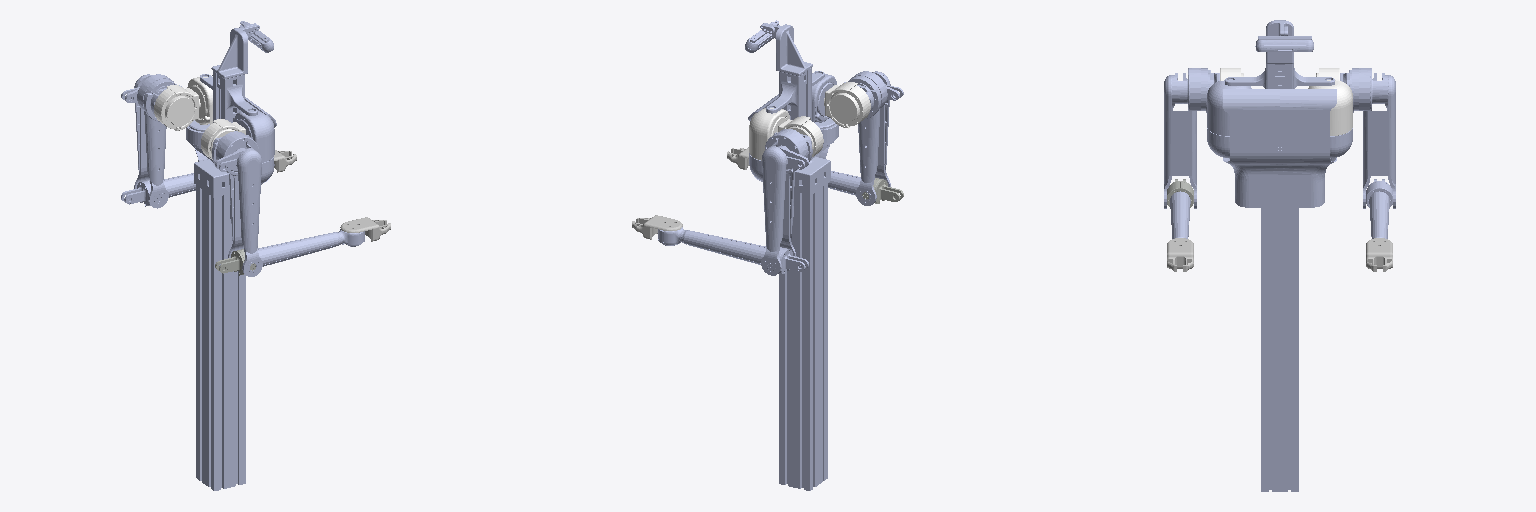
The robot description file, URDF, robot "RobotBimanualV3":
<?xml version="1.0" encoding="utf-8"?>
<!-- This URDF was automatically created by SolidWorks to URDF Exporter! Originally created by [author] ([email redacted]) 
     Commit Version: 1.6.0-4-g7f85cfe  Build Version: 1.6.7995.38578
     For more information, please see http://wiki.ros.org/sw_urdf_exporter -->
<robot
  name="RobotBimanualV3">
  <link
    name="base_link">
    <inertial>
      <origin
        xyz="0.010321 0.00065104 0.5185"
        rpy="0 0 0" />
      <mass
        value="35.545" />
      <inertia
        ixx="1.3259"
        ixy="-1.6443E-06"
        ixz="-0.00012106"
        iyy="1.3119"
        iyz="-1.547E-06"
        izz="0.026428" />
    </inertial>
    <visual>
      <origin
        xyz="0 0 0"
        rpy="0 0 0" />
      <geometry>
        <mesh
          filename="package://RobotBimanualV3/meshes/base_link.STL" />
      </geometry>
      <material
        name="">
        <color
          rgba="0.79216 0.81961 0.93333 1" />
      </material>
    </visual>
    <collision>
      <origin
        xyz="0 0 0"
        rpy="0 0 0" />
      <geometry>
        <mesh
          filename="package://RobotBimanualV3/meshes/base_link.STL" />
      </geometry>
    </collision>
  </link>
  <link
    name="link1">
    <inertial>
      <origin
        xyz="0.00277367 6.161E-05 0.05165334"
        rpy="0 0 0" />
      <mass
        value="0.706" />
      <inertia
        ixx="0.00074611"
        ixy="5.4E-07"
        ixz="5.3E-07"
        iyy="0.00054009"
        iyz="3.26E-06"
        izz="0.00050643" />
    </inertial>
    <visual>
      <origin
        xyz="0 0 0"
        rpy="0 0 0" />
      <geometry>
        <mesh
          filename="package://RobotBimanualV3/meshes/link1.STL" />
      </geometry>
      <material
        name="">
        <color
          rgba="1 1 1 1" />
      </material>
    </visual>
    <collision>
      <origin
        xyz="0 0 0"
        rpy="0 0 0" />
      <geometry>
        <mesh
          filename="package://RobotBimanualV3/meshes/link1.STL" />
      </geometry>
    </collision>
  </link>
  <joint
    name="joint1"
    type="revolute">
    <origin
      xyz="0.02 0.1037 0.8358"
      rpy="0 0 0" />
    <parent
      link="base_link" />
    <child
      link="link1" />
    <axis
      xyz="0 0 1" />
    <limit
      lower="0"
      upper="0"
      effort="0"
      velocity="0" />
  </joint>
  <link
    name="link2">
    <inertial>
      <origin
        xyz="-0.00124394 -5.732E-05 0.0545228"
        rpy="0 0 0" />
      <mass
        value="0.659" />
      <inertia
        ixx="0.00064807"
        ixy="8.3E-07"
        ixz="-4.6E-07"
        iyy="0.00045162"
        iyz="-1.01E-06"
        izz="0.00043422" />
    </inertial>
    <visual>
      <origin
        xyz="0 0 0"
        rpy="0 0 0" />
      <geometry>
        <mesh
          filename="package://RobotBimanualV3/meshes/link2.STL" />
      </geometry>
      <material
        name="">
        <color
          rgba="1 1 1 1" />
      </material>
    </visual>
    <collision>
      <origin
        xyz="0 0 0"
        rpy="0 0 0" />
      <geometry>
        <mesh
          filename="package://RobotBimanualV3/meshes/link2.STL" />
      </geometry>
    </collision>
  </link>
  <joint
    name="joint2"
    type="revolute">
    <origin
      xyz="-0.020519 0.0080718 0.0528"
      rpy="-1.5708 0 1.5708" />
    <parent
      link="link1" />
    <child
      link="link2" />
    <axis
      xyz="0 0 1" />
    <limit
      lower="0"
      upper="0"
      effort="0"
      velocity="0" />
  </joint>
  <link
    name="link3">
    <inertial>
      <origin
        xyz="-0.03505493 -0.006151 0.05438578"
        rpy="0 0 0" />
      <mass
        value="1.095" />
      <inertia
        ixx="0.00161847"
        ixy="0.00042205"
        ixz="-0.00104433"
        iyy="0.0066165"
        iyz="-0.0001917"
        izz="0.00653551" />
    </inertial>
    <visual>
      <origin
        xyz="0 0 0"
        rpy="0 0 0" />
      <geometry>
        <mesh
          filename="package://RobotBimanualV3/meshes/link3.STL" />
      </geometry>
      <material
        name="">
        <color
          rgba="0.79216 0.81961 0.93333 1" />
      </material>
    </visual>
    <collision>
      <origin
        xyz="0 0 0"
        rpy="0 0 0" />
      <geometry>
        <mesh
          filename="package://RobotBimanualV3/meshes/link3.STL" />
      </geometry>
    </collision>
  </link>
  <joint
    name="joint3"
    type="revolute">
    <origin
      xyz="0.014928 0 0.058031"
      rpy="-1.5708 0 -1.5708" />
    <parent
      link="link2" />
    <child
      link="link3" />
    <axis
      xyz="0 0 1" />
    <limit
      lower="0"
      upper="0"
      effort="0"
      velocity="0" />
  </joint>
  <link
    name="link4">
    <inertial>
      <origin
        xyz="-0.00914828 -0.00042727 -7.12E-06"
        rpy="0 0 0" />
      <mass
        value="0.268" />
      <inertia
        ixx="9.136E-05"
        ixy="7E-08"
        ixz="-2E-08"
        iyy="0.00013894"
        iyz="0"
        izz="0.00013031" />
    </inertial>
    <visual>
      <origin
        xyz="0 0 0"
        rpy="0 0 0" />
      <geometry>
        <mesh
          filename="package://RobotBimanualV3/meshes/link4.STL" />
      </geometry>
      <material
        name="">
        <color
          rgba="0.79216 0.81961 0.93333 1" />
      </material>
    </visual>
    <collision>
      <origin
        xyz="0 0 0"
        rpy="0 0 0" />
      <geometry>
        <mesh
          filename="package://RobotBimanualV3/meshes/link4.STL" />
      </geometry>
    </collision>
  </link>
  <joint
    name="joint4"
    type="revolute">
    <origin
      xyz="-0.25 0 0.08318"
      rpy="0 0 1.5708" />
    <parent
      link="link3" />
    <child
      link="link4" />
    <axis
      xyz="0 0 1" />
    <limit
      lower="0"
      upper="0"
      effort="0"
      velocity="0" />
  </joint>
  <link
    name="link5">
    <inertial>
      <origin
        xyz="-0.00077608 -1.282E-05 0.20828624"
        rpy="0 0 0" />
      <mass
        value="0.312" />
      <inertia
        ixx="0.00224953"
        ixy="-6E-08"
        ixz="-1.814E-05"
        iyy="0.00223143"
        iyz="-5.8E-07"
        izz="7.461E-05" />
    </inertial>
    <visual>
      <origin
        xyz="0 0 0"
        rpy="0 0 0" />
      <geometry>
        <mesh
          filename="package://RobotBimanualV3/meshes/link5.STL" />
      </geometry>
      <material
        name="">
        <color
          rgba="0.79216 0.81961 0.93333 1" />
      </material>
    </visual>
    <collision>
      <origin
        xyz="0 0 0"
        rpy="0 0 0" />
      <geometry>
        <mesh
          filename="package://RobotBimanualV3/meshes/link5.STL" />
      </geometry>
    </collision>
  </link>
  <joint
    name="joint5"
    type="revolute">
    <origin
      xyz="0.014 0 0"
      rpy="-1.5708 0 -1.5708" />
    <parent
      link="link4" />
    <child
      link="link5" />
    <axis
      xyz="0 0 1" />
    <limit
      lower="0"
      upper="0"
      effort="0"
      velocity="0" />
  </joint>
  <link
    name="link6">
    <inertial>
      <origin
        xyz="0 0.03647863 -0.00513212"
        rpy="0 0 0" />
      <mass
        value="0.069" />
      <inertia
        ixx="5.058E-05"
        ixy="0"
        ixz="0"
        iyy="2.639E-05"
        iyz="-9.98E-06"
        izz="6.138E-05" />
    </inertial>
    <visual>
      <origin
        xyz="0 0 0"
        rpy="0 0 0" />
      <geometry>
        <mesh
          filename="package://RobotBimanualV3/meshes/link12.STL" />
      </geometry>
      <material
        name="">
        <color
          rgba="0.82353 0.82353 0.82353 1" />
      </material>
    </visual>
    <collision>
      <origin
        xyz="0 0 0"
        rpy="0 0 0" />
      <geometry>
        <mesh
          filename="package://RobotBimanualV3/meshes/link12.STL" />
      </geometry>
    </collision>
  </link>
  <joint
    name="joint6"
    type="revolute">
    <origin
      xyz="0.01415 0 0.2633"
      rpy="1.5708 0 1.5708" />
    <parent
      link="link5" />
    <child
      link="link6" />
    <axis
      xyz="0 0 1" />
    <limit
      lower="0"
      upper="0"
      effort="0"
      velocity="0" />
  </joint>
  <link
    name="link7">
    <inertial>
      <origin
        xyz="0.00239406 -0.00016204 0.05155291"
        rpy="0 0 0" />
      <mass
        value="0.706" />
      <inertia
        ixx="0.00074592"
        ixy="-2.03E-06"
        ixz="-1.52E-06"
        iyy="0.00053798"
        iyz="-3.35E-06"
        izz="0.00050821" />
    </inertial>
    <visual>
      <origin
        xyz="0 0 0"
        rpy="0 0 0" />
      <geometry>
        <mesh
          filename="package://RobotBimanualV3/meshes/link7.STL" />
      </geometry>
      <material
        name="">
        <color
          rgba="0.79216 0.81961 0.93333 1" />
      </material>
    </visual>
    <collision>
      <origin
        xyz="0 0 0"
        rpy="0 0 0" />
      <geometry>
        <mesh
          filename="package://RobotBimanualV3/meshes/link7.STL" />
      </geometry>
    </collision>
  </link>
  <joint
    name="joint7"
    type="revolute">
    <origin
      xyz="0.02 -0.1037 0.8358"
      rpy="0 0 0" />
    <parent
      link="base_link" />
    <child
      link="link7" />
    <axis
      xyz="0 0 1" />
    <limit
      lower="0"
      upper="0"
      effort="0"
      velocity="0" />
  </joint>
  <link
    name="link8">
    <inertial>
      <origin
        xyz="-0.00124394 7.606E-05 0.05454155"
        rpy="0 0 0" />
      <mass
        value="0.659" />
      <inertia
        ixx="0.00064811"
        ixy="-1.1E-06"
        ixz="-7.3E-07"
        iyy="0.0004522"
        iyz="1.03E-06"
        izz="0.00043369" />
    </inertial>
    <visual>
      <origin
        xyz="0 0 0"
        rpy="0 0 0" />
      <geometry>
        <mesh
          filename="package://RobotBimanualV3/meshes/link8.STL" />
      </geometry>
      <material
        name="">
        <color
          rgba="1 1 1 1" />
      </material>
    </visual>
    <collision>
      <origin
        xyz="0 0 0"
        rpy="0 0 0" />
      <geometry>
        <mesh
          filename="package://RobotBimanualV3/meshes/link8.STL" />
      </geometry>
    </collision>
  </link>
  <joint
    name="joint8"
    type="revolute">
    <origin
      xyz="-0.02205 0 0.0528"
      rpy="1.5708 0 -1.5708" />
    <parent
      link="link7" />
    <child
      link="link8" />
    <axis
      xyz="0 0 1" />
    <limit
      lower="0"
      upper="0"
      effort="0"
      velocity="0" />
  </joint>
  <link
    name="link9">
    <inertial>
      <origin
        xyz="-0.03505563 0.00468094 0.05453087"
        rpy="0 0 0" />
      <mass
        value="1.095" />
      <inertia
        ixx="0.00161845"
        ixy="-0.00039365"
        ixz="-0.00105521"
        iyy="0.00662637"
        iyz="0.00018923"
        izz="0.00652496" />
    </inertial>
    <visual>
      <origin
        xyz="0 0 0"
        rpy="0 0 0" />
      <geometry>
        <mesh
          filename="package://RobotBimanualV3/meshes/link9.STL" />
      </geometry>
      <material
        name="">
        <color
          rgba="0.79216 0.81961 0.93333 1" />
      </material>
    </visual>
    <collision>
      <origin
        xyz="0 0 0"
        rpy="0 0 0" />
      <geometry>
        <mesh
          filename="package://RobotBimanualV3/meshes/link9.STL" />
      </geometry>
    </collision>
  </link>
  <joint
    name="joint9"
    type="revolute">
    <origin
      xyz="0.023 0 0.0565"
      rpy="1.5708 0 1.5708" />
    <parent
      link="link8" />
    <child
      link="link9" />
    <axis
      xyz="0 0 1" />
    <limit
      lower="0"
      upper="0"
      effort="0"
      velocity="0" />
  </joint>
  <link
    name="link10">
    <inertial>
      <origin
        xyz="-0.00914828 -0.00042727 7.13E-06"
        rpy="0 0 0" />
      <mass
        value="0.268" />
      <inertia
        ixx="9.136E-05"
        ixy="7E-08"
        ixz="2E-08"
        iyy="0.00013894"
        iyz="0"
        izz="0.00013031" />
    </inertial>
    <visual>
      <origin
        xyz="0 0 0"
        rpy="0 0 0" />
      <geometry>
        <mesh
          filename="package://RobotBimanualV3/meshes/link10.STL" />
      </geometry>
      <material
        name="">
        <color
          rgba="0.75686 0.76863 0.75294 1" />
      </material>
    </visual>
    <collision>
      <origin
        xyz="0 0 0"
        rpy="0 0 0" />
      <geometry>
        <mesh
          filename="package://RobotBimanualV3/meshes/link10.STL" />
      </geometry>
    </collision>
  </link>
  <joint
    name="joint10"
    type="revolute">
    <origin
      xyz="-0.25 0 0.08318"
      rpy="3.1416 0 -1.5708" />
    <parent
      link="link9" />
    <child
      link="link10" />
    <axis
      xyz="0 0 1" />
    <limit
      lower="0"
      upper="0"
      effort="0"
      velocity="0" />
  </joint>
  <link
    name="link11">
    <inertial>
      <origin
        xyz="-0.00590045 -0.00568974 0.20812634"
        rpy="0 0 0" />
      <mass
        value="0.312" />
      <inertia
        ixx="0.0022472"
        ixy="5.1E-07"
        ixz="-7.155E-05"
        iyy="0.00222987"
        iyz="-6.013E-05"
        izz="7.85E-05" />
    </inertial>
    <visual>
      <origin
        xyz="0 0 0"
        rpy="0 0 0" />
      <geometry>
        <mesh
          filename="package://RobotBimanualV3/meshes/link11.STL" />
      </geometry>
      <material
        name="">
        <color
          rgba="0.79216 0.81961 0.93333 1" />
      </material>
    </visual>
    <collision>
      <origin
        xyz="0 0 0"
        rpy="0 0 0" />
      <geometry>
        <mesh
          filename="package://RobotBimanualV3/meshes/link11.STL" />
      </geometry>
    </collision>
  </link>
  <joint
    name="joint11"
    type="revolute">
    <origin
      xyz="0.014 0 0"
      rpy="-1.5708 0 -1.5708" />
    <parent
      link="link10" />
    <child
      link="link11" />
    <axis
      xyz="0 0 1" />
    <limit
      lower="0"
      upper="0"
      effort="0"
      velocity="0" />
  </joint>
  <link
    name="link12">
    <inertial>
      <origin
        xyz="0 -0.03647862 -0.00513209"
        rpy="0 0 0" />
      <mass
        value="0.069" />
      <inertia
        ixx="5.058E-05"
        ixy="0"
        ixz="0"
        iyy="2.639E-05"
        iyz="-9.98E-06"
        izz="6.138E-05" />
    </inertial>
    <visual>
      <origin
        xyz="0 0 0"
        rpy="0 0 0" />
      <geometry>
        <mesh
          filename="package://RobotBimanualV3/meshes/link12.STL" />
      </geometry>
      <material
        name="">
        <color
          rgba="0.82353 0.82353 0.82353 1" />
      </material>
    </visual>
    <collision>
      <origin
        xyz="0 0 0"
        rpy="0 0 0" />
      <geometry>
        <mesh
          filename="package://RobotBimanualV3/meshes/link12.STL" />
      </geometry>
    </collision>
  </link>
  <joint
    name="joint12"
    type="revolute">
    <origin
      xyz="0.01415 0 0.2633"
      rpy="1.5708 0 1.5708" />
    <parent
      link="link11" />
    <child
      link="link12" />
    <axis
      xyz="0 0 1" />
    <limit
      lower="0"
      upper="0"
      effort="0"
      velocity="0" />
  </joint>
</robot>

--- Facts derived from the render (not from the file) ---
The picture shows the robot from 3 angles, left to right: view 1: azimuth 30°, elevation 25°; view 2: azimuth 150°, elevation 25°; view 3: azimuth 270°, elevation 25°; orthographic projection.
Model RobotBimanualV3 with 13 links and 12 joints (12 revolute), rooted at base_link, posed every joint at zero.
Visible links, largest first — view 1: base_link, link9, link3, link11, link2, link7, link8, link12, link1, link5; view 2: base_link, link3, link9, link5, link8, link1, link2, link6, link7, link11; view 3: base_link, link3, link9, link1, link7, link5, link11, link6, link12.
Link boxes in pixels (box(x1,y1,x2,y2)): base_link: box(186, 21, 276, 490); link9: box(212, 131, 262, 276); link3: box(121, 74, 181, 208); link11: box(257, 229, 364, 266); link2: box(154, 85, 200, 130); link7: box(234, 111, 274, 162); link8: box(201, 119, 245, 159); link12: box(340, 217, 390, 241); link1: box(187, 77, 212, 124); link5: box(164, 173, 195, 197); base_link: box(745, 20, 838, 490); link3: box(761, 129, 812, 275); link9: box(844, 71, 903, 205); link5: box(658, 227, 765, 264); link8: box(824, 82, 870, 128); link1: box(749, 108, 789, 160); link2: box(777, 116, 823, 156); link6: box(632, 215, 682, 239); link7: box(812, 74, 836, 122); link11: box(828, 171, 860, 195); base_link: box(1207, 20, 1352, 491); link3: box(1340, 68, 1395, 208); link9: box(1164, 68, 1219, 208); link1: box(1308, 80, 1352, 135); link7: box(1207, 80, 1251, 135); link5: box(1369, 191, 1389, 238); link11: box(1170, 191, 1190, 238); link6: box(1366, 238, 1392, 271); link12: box(1167, 238, 1193, 271).
Bounding box of the posed robot: 0.4387 × 0.4898 × 1.1 m (x, y, z).
13 mesh visuals loaded from 12 distinct referenced files (12 binary STL).